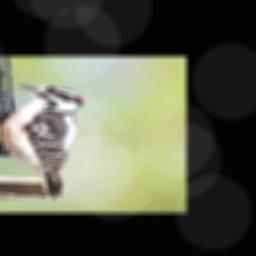Woodpecker: (0, 83, 86, 201)
